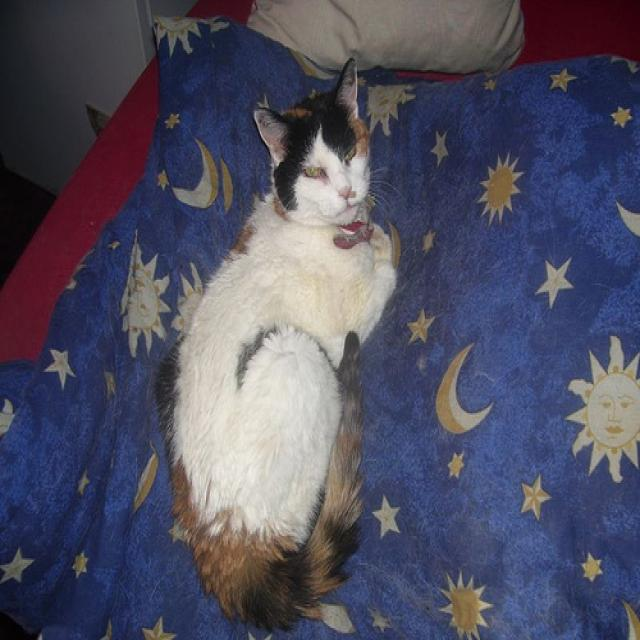cat: (156, 55, 400, 636)
